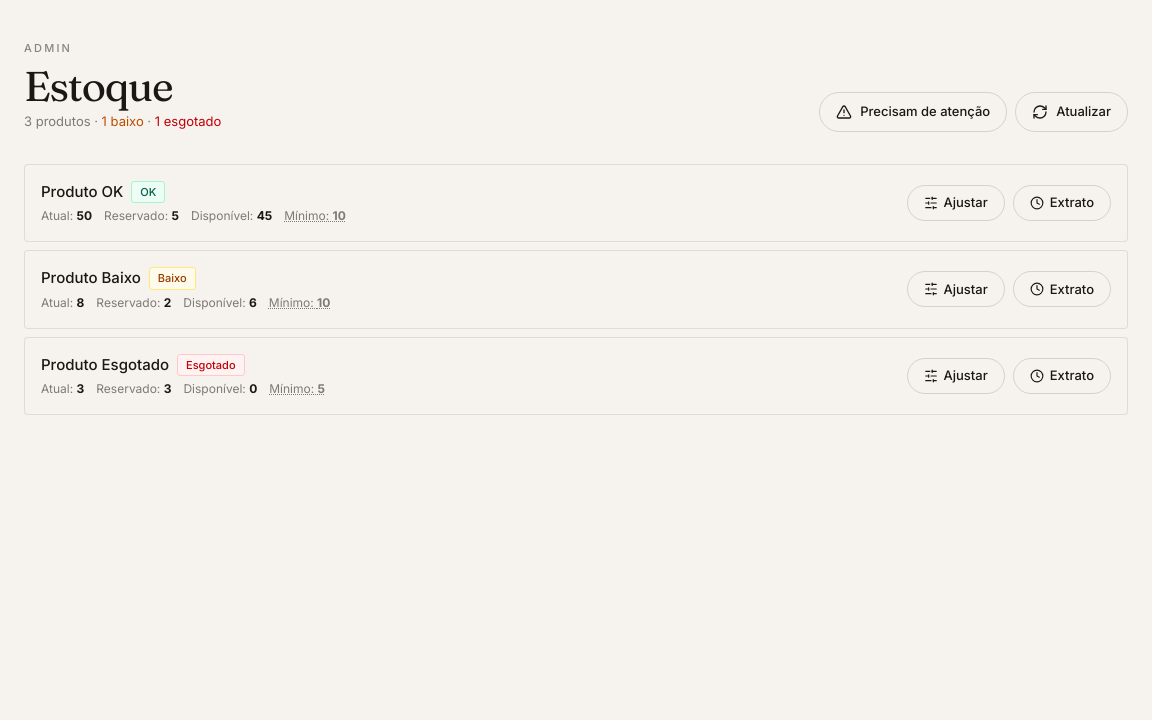
Scenario: StockManager — leitura (T5a) › extrato vazio exibe mensagem adequada
The width and height of the screenshot is (1152, 720).
What coordinates should you click on to do the following:
click the button "Extrato" in the row of "45"
I would click on:
 (1062, 203)
Its box is [1013,185,1111,221].
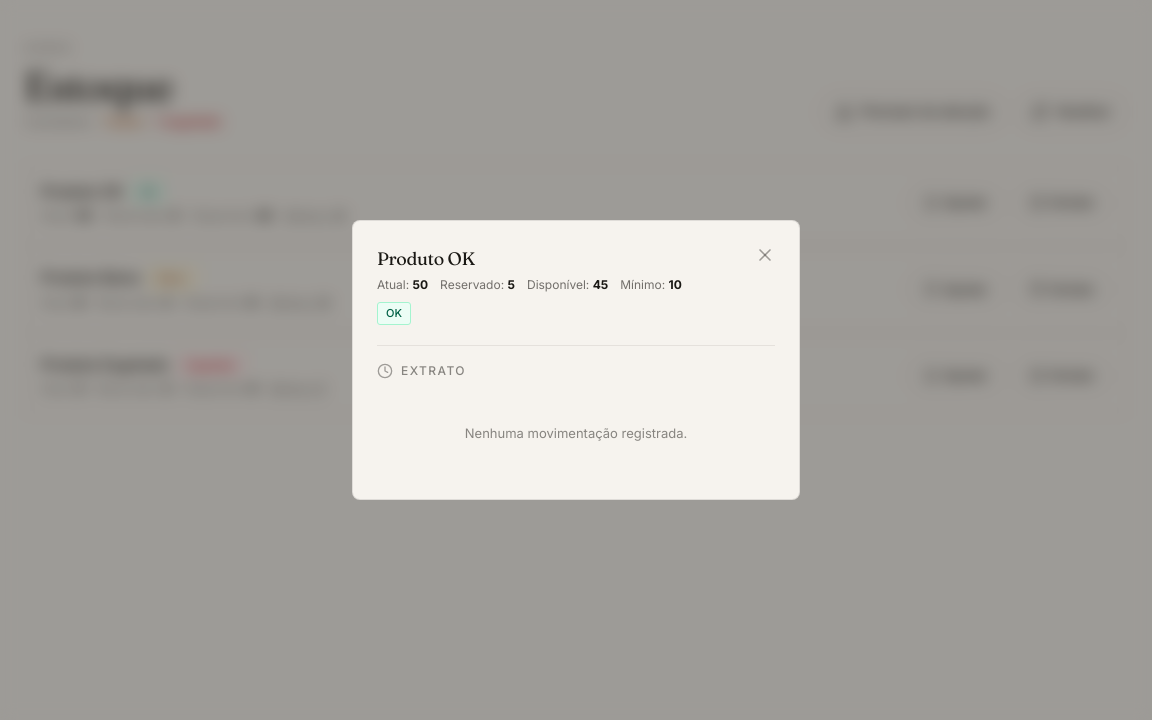
expect the text "Nenhuma movimentação registrada." is shown: met, box [465,424,687,440]
